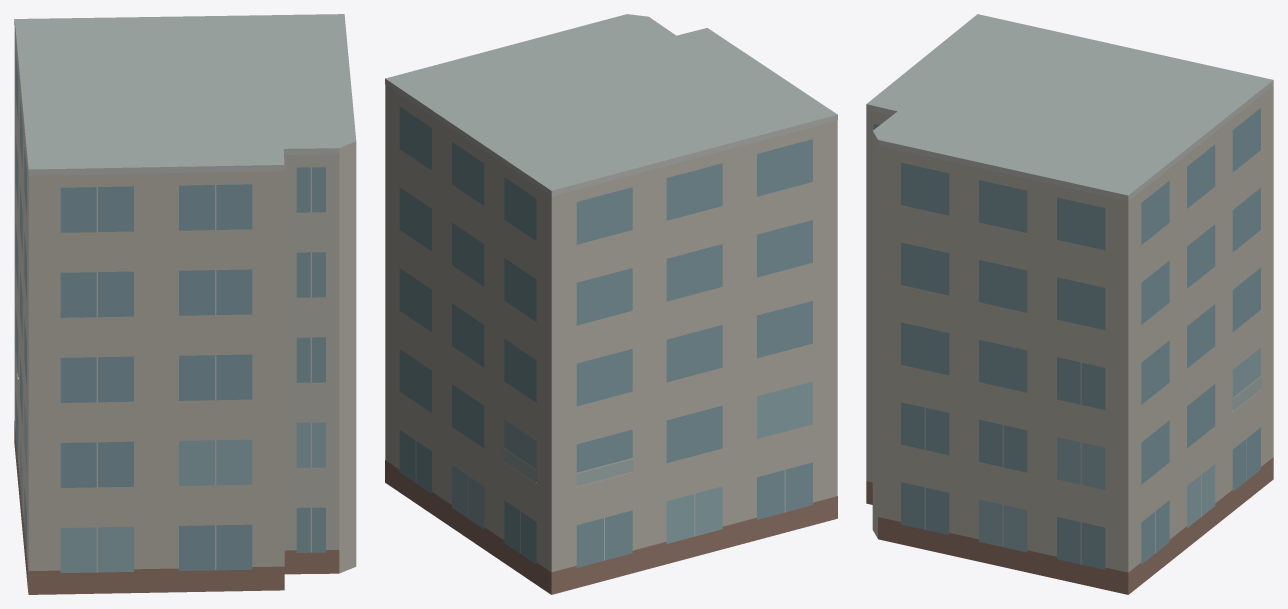
Rendered from survey-upis-32892549.glb.
3 views of the same model, side by side, from view 1: azimuth 30°, elevation 25°; view 2: azimuth 150°, elevation 25°; view 3: azimuth 270°, elevation 25° (orthographic). The views are drawn at different scales.
Parts seen in each view (by area): view 1: survey-upis-32892549.tmp; view 2: survey-upis-32892549.tmp; view 3: survey-upis-32892549.tmp.
Part boxes in pixels (left/top/right/bottom): survey-upis-32892549.tmp: left=14, top=14, right=356, bottom=594; survey-upis-32892549.tmp: left=385, top=14, right=837, bottom=594; survey-upis-32892549.tmp: left=866, top=14, right=1273, bottom=594.
Size of the model in its own units: 16.58 by 17 by 15.73.
